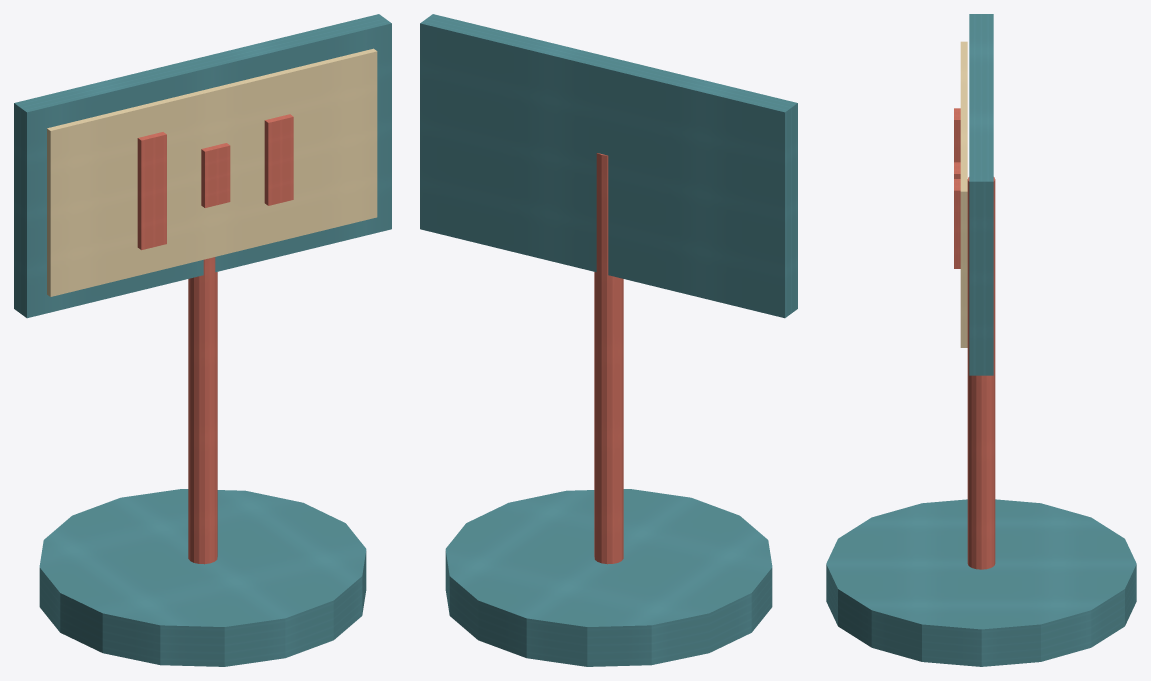
Rendered from atlas100-s071-a11.glb.
3 renders of one model, left to right at view 1: azimuth 30°, elevation 25°; view 2: azimuth 150°, elevation 25°; view 3: azimuth 270°, elevation 25°, orthographic. The views are drawn at different scales.
Parts seen in each view (by area): view 1: atlas100-s071-a11:part-003, atlas100-s071-a11:part-000, atlas100-s071-a11:part-002, atlas100-s071-a11:part-001, atlas100-s071-a11:part-004, atlas100-s071-a11:part-006, atlas100-s071-a11:part-005; view 2: atlas100-s071-a11:part-002, atlas100-s071-a11:part-000, atlas100-s071-a11:part-001; view 3: atlas100-s071-a11:part-000, atlas100-s071-a11:part-002, atlas100-s071-a11:part-001, atlas100-s071-a11:part-003, atlas100-s071-a11:part-006.
Boxes of the visible parts, <box> form: atlas100-s071-a11:part-003: <box>47,48,377,296</box>; atlas100-s071-a11:part-000: <box>39,489,366,666</box>; atlas100-s071-a11:part-002: <box>14,14,391,318</box>; atlas100-s071-a11:part-001: <box>188,257,217,564</box>; atlas100-s071-a11:part-004: <box>137,132,166,250</box>; atlas100-s071-a11:part-006: <box>264,114,293,205</box>; atlas100-s071-a11:part-005: <box>201,143,230,207</box>; atlas100-s071-a11:part-002: <box>420,14,797,318</box>; atlas100-s071-a11:part-000: <box>445,489,772,666</box>; atlas100-s071-a11:part-001: <box>594,153,623,564</box>; atlas100-s071-a11:part-000: <box>826,499,1136,666</box>; atlas100-s071-a11:part-002: <box>969,14,993,375</box>; atlas100-s071-a11:part-001: <box>967,177,995,569</box>; atlas100-s071-a11:part-003: <box>960,41,967,347</box>; atlas100-s071-a11:part-006: <box>954,179,960,268</box>.
Bounding box in the file's own units: 1.15 × 1.61 × 0.9.
3 materials, 3 textured.
